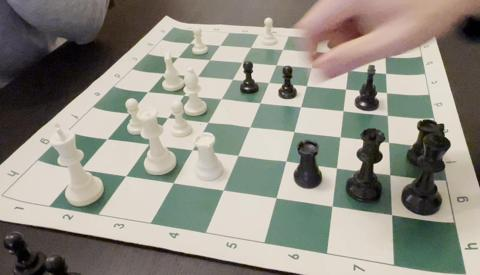xcorner: (379, 48, 391, 60), (344, 46, 356, 58), (380, 65, 392, 77), (342, 62, 354, 74), (306, 59, 318, 71), (237, 54, 249, 66), (381, 84, 393, 96), (301, 77, 313, 89), (227, 71, 239, 83), (338, 102, 350, 114), (255, 94, 267, 106), (383, 133, 395, 145), (335, 128, 347, 140), (289, 123, 301, 135), (245, 118, 257, 130), (124, 105, 136, 117), (121, 167, 133, 179), (310, 44, 322, 55), (277, 42, 289, 53), (246, 39, 257, 51), (215, 37, 226, 49), (185, 35, 196, 47), (271, 57, 283, 68), (204, 52, 216, 63), (173, 49, 184, 61), (340, 81, 352, 92), (264, 74, 275, 86), (193, 68, 204, 80), (159, 65, 170, 77), (382, 107, 394, 118), (296, 98, 307, 110), (216, 91, 228, 102), (179, 87, 190, 99), (203, 114, 215, 125), (163, 109, 174, 121), (332, 159, 343, 171), (281, 153, 293, 164), (233, 147, 245, 158), (188, 141, 199, 153), (102, 131, 114, 142), (387, 205, 398, 217), (219, 181, 230, 193), (169, 174, 180, 186), (76, 161, 88, 172), (143, 84, 154, 95), (385, 166, 396, 177), (144, 136, 155, 147), (328, 197, 339, 208), (272, 189, 283, 200)
